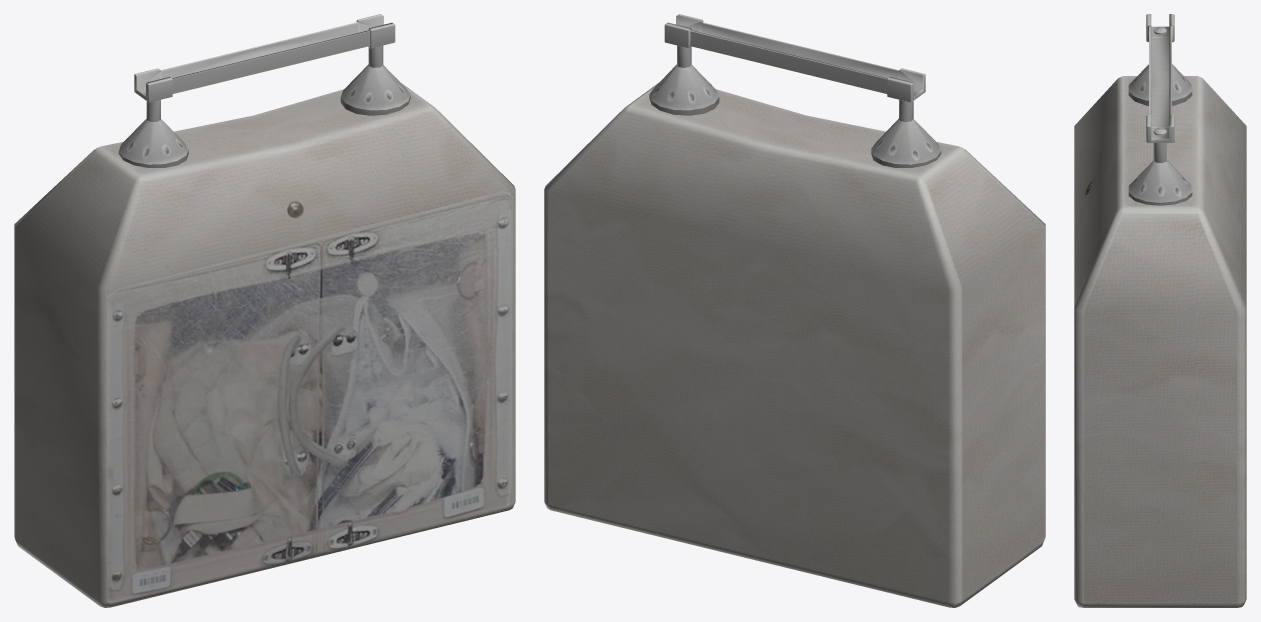
Rendered from Crew Lock Bag.glb.
The picture shows the model from 3 angles, left to right: view 1: azimuth 30°, elevation 25°; view 2: azimuth 150°, elevation 25°; view 3: azimuth 270°, elevation 25°; orthographic projection. The views are drawn at different scales.
Visible parts, largest first — view 1: crewlockba; view 2: crewlockba; view 3: crewlockba.
Boxes of the visible parts, x1=… form: crewlockba: x1=14, y1=14, x2=515, y2=607; crewlockba: x1=544, y1=14, x2=1045, y2=607; crewlockba: x1=1074, y1=14, x2=1246, y2=607.
Bounding box in the file's own units: 14.05 × 15.46 × 5.41.
1 material, 1 textured.
